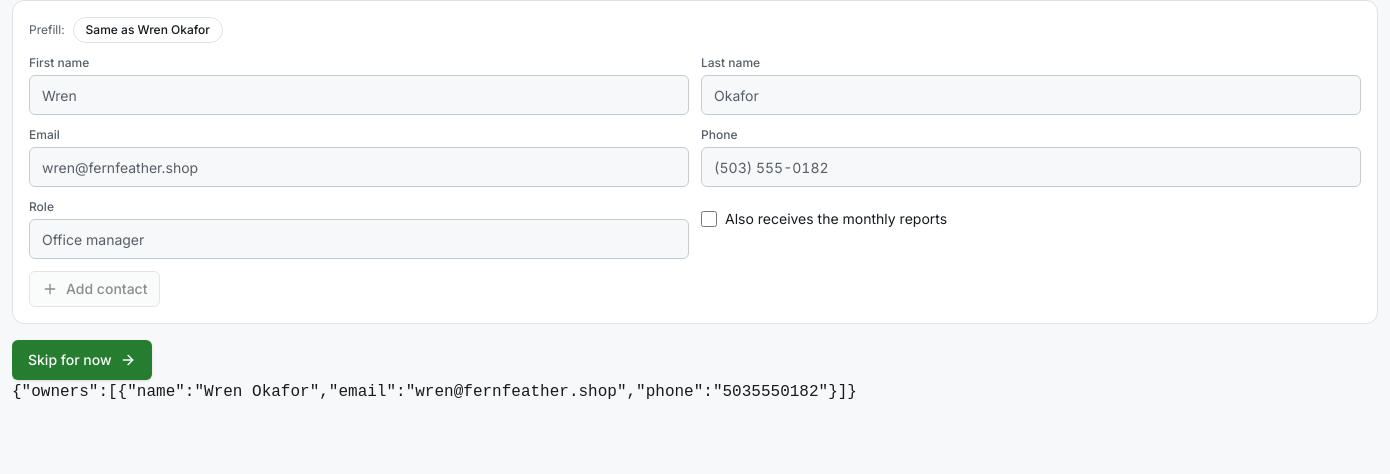
Test: contacts owner prefill (I1, 00:29:05) › fills the draft from the tapped owner
Step 1. Click the button with test id "prefill-0" → x=148, y=30, box [73,17,223,43]
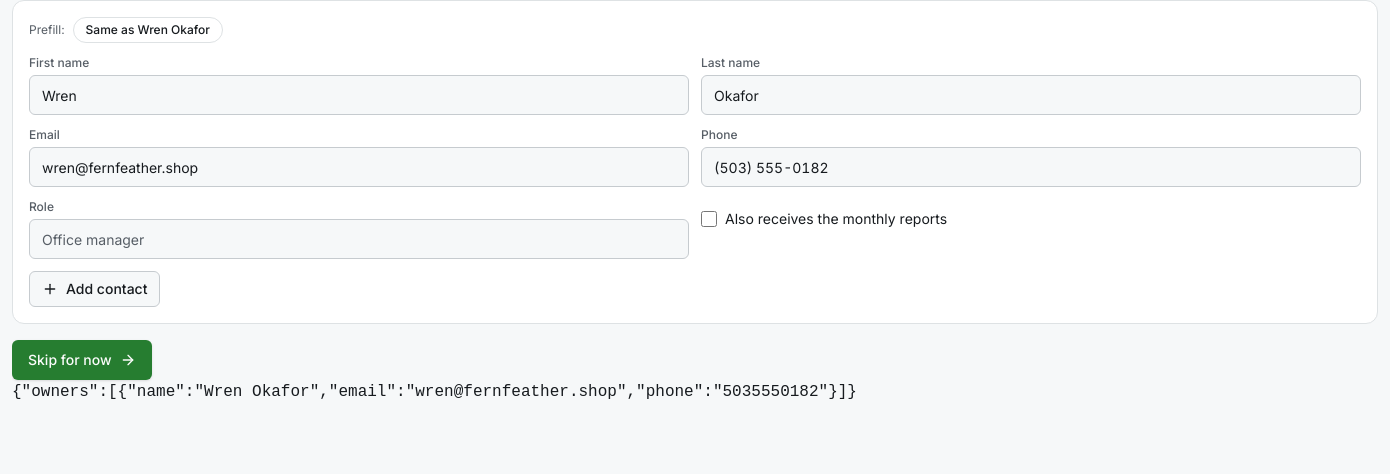
Expected: the field named "First name" holds "Wren", [29,75,689,115]
Expected: the field named "Last name" holds "Okafor", [701,75,1361,115]
Expected: the field named "Email" holds "wren@fernfeather.shop", [29,147,689,187]
Step 2. Click the button with test id "add-another" → x=95, y=289, box [29,271,160,307]
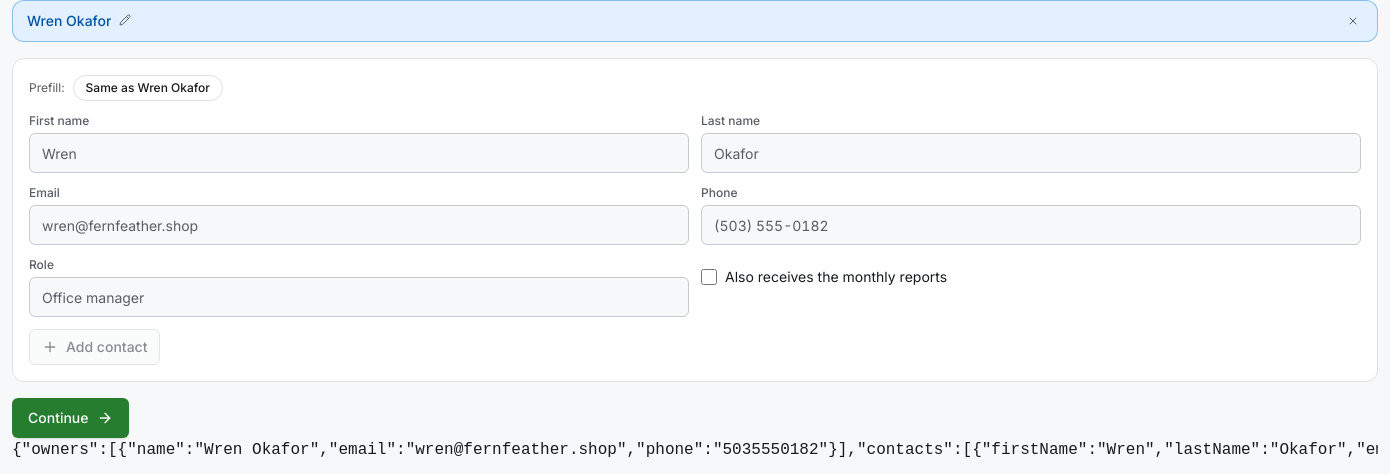
Expected: the text "Wren Okafor" is shown, [27,11,111,31]
